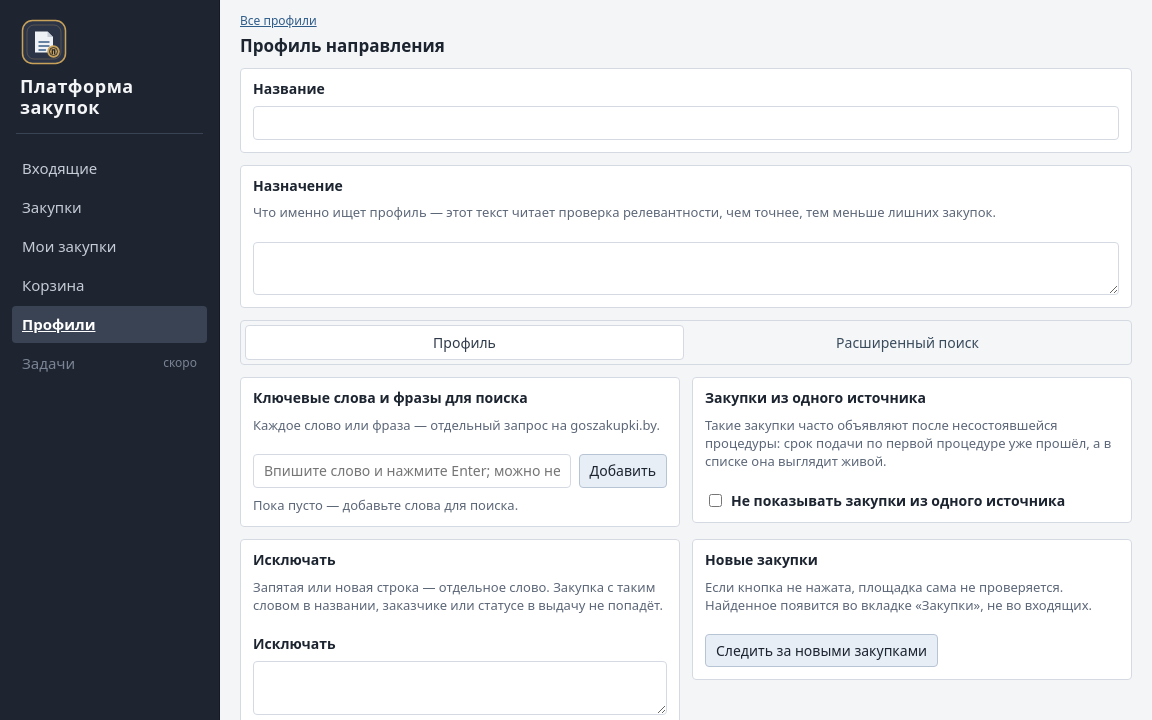
ProfileApp › after creating a named profile shows a toast and returns to the list
The image size is (1152, 720).
In the field labelled "Название": (686, 123) [253,106,1119,140], type "Водоподготовка"
(page scrolled)
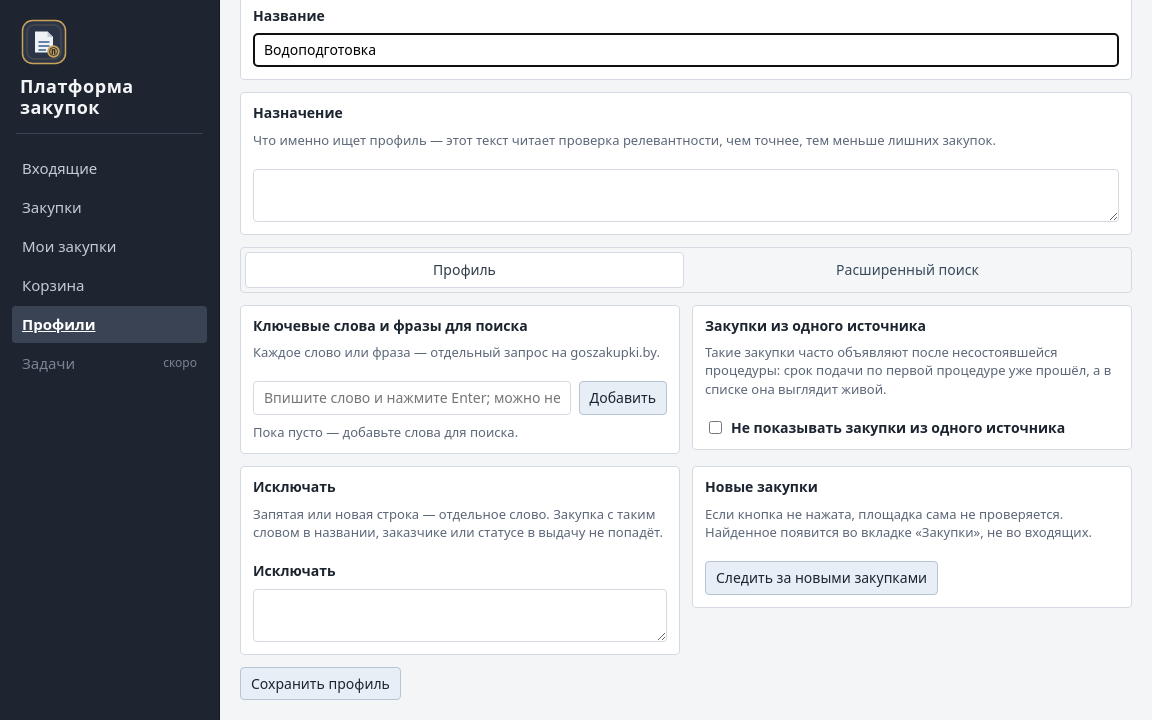
Click the button "Сохранить профиль": (320, 684) [240,667,401,700]
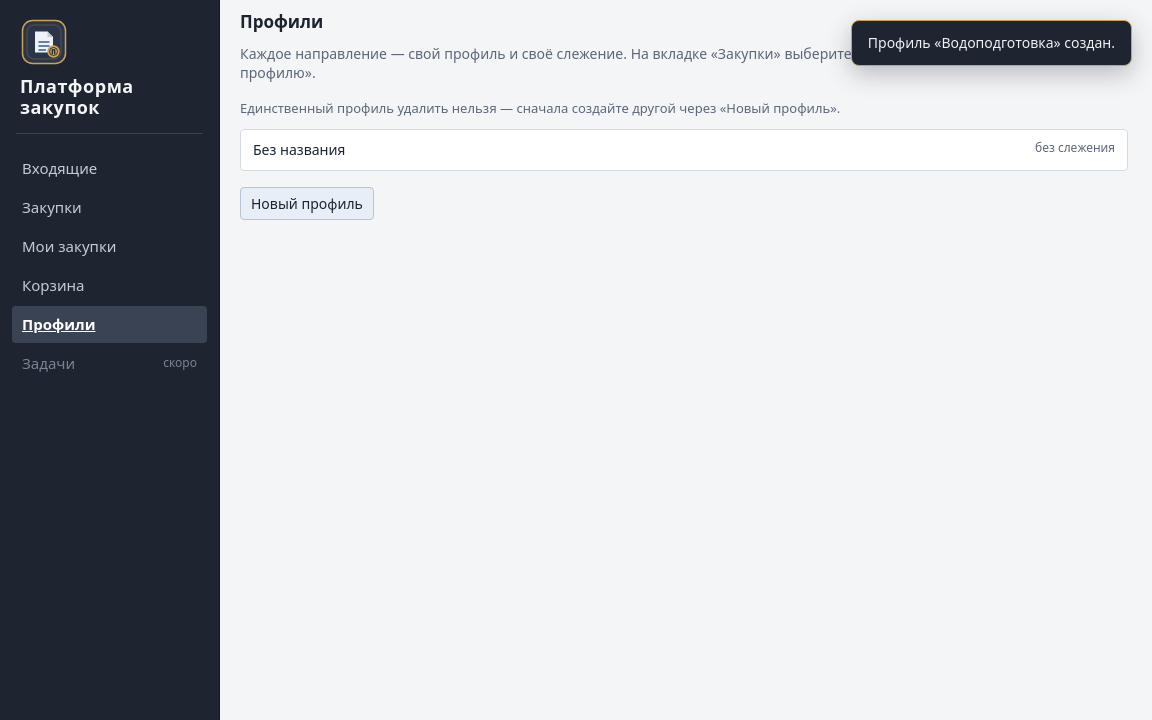
Check: the heading "Профили" is shown, box [240,10,323,33]
Check: the message reads "Профиль «Водоподготовка» создан.", box [868,33,1115,52]
